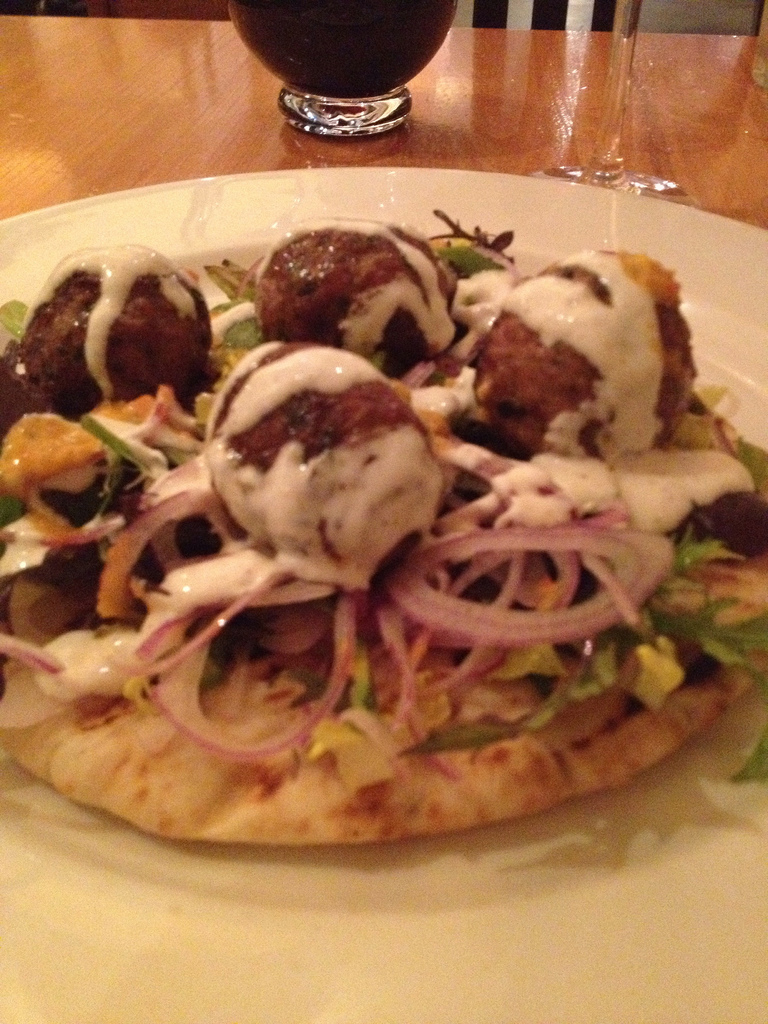meatballs: (225, 338, 431, 559), (496, 247, 685, 467), (259, 218, 460, 380), (29, 248, 200, 391)
slice of bread: (1, 644, 768, 851)
